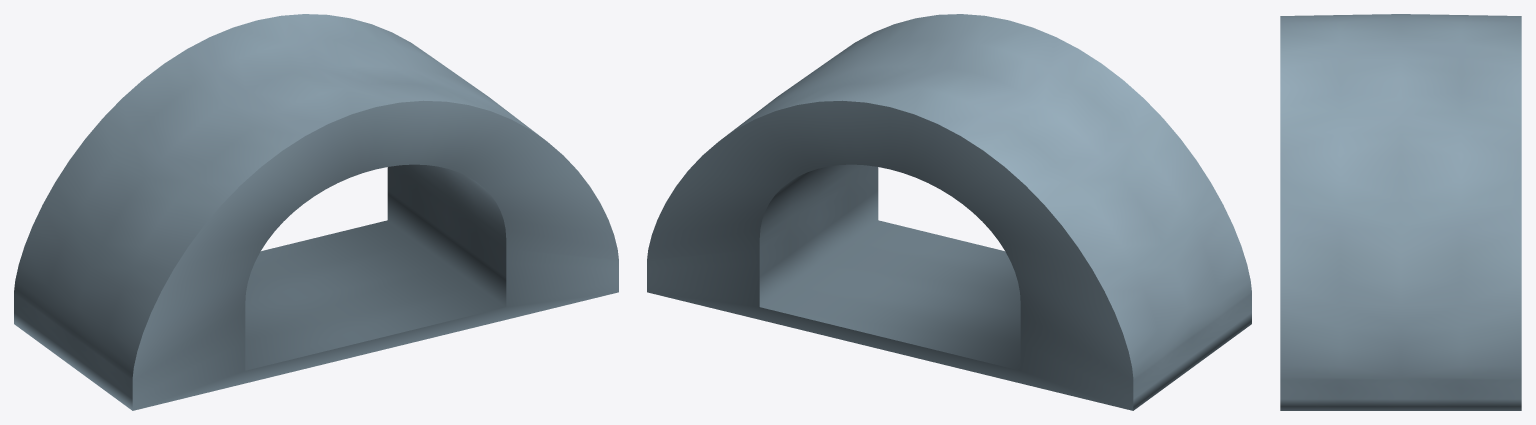
Rendered from straight_12m_terrain_lod1.glb.
3 views of the same model, side by side, from view 1: azimuth 30°, elevation 25°; view 2: azimuth 150°, elevation 25°; view 3: azimuth 270°, elevation 25° (orthographic).
Parts seen in each view (by area): view 1: TerrainRoof.005; view 2: TerrainRoof.005; view 3: TerrainRoof.005.
Part boxes in pixels (bbox=[...]): TerrainRoof.005: bbox=[14, 14, 618, 410]; TerrainRoof.005: bbox=[647, 14, 1251, 410]; TerrainRoof.005: bbox=[1280, 14, 1521, 410].
Bounding box in the file's own units: 28.4 × 13.65 × 12.
